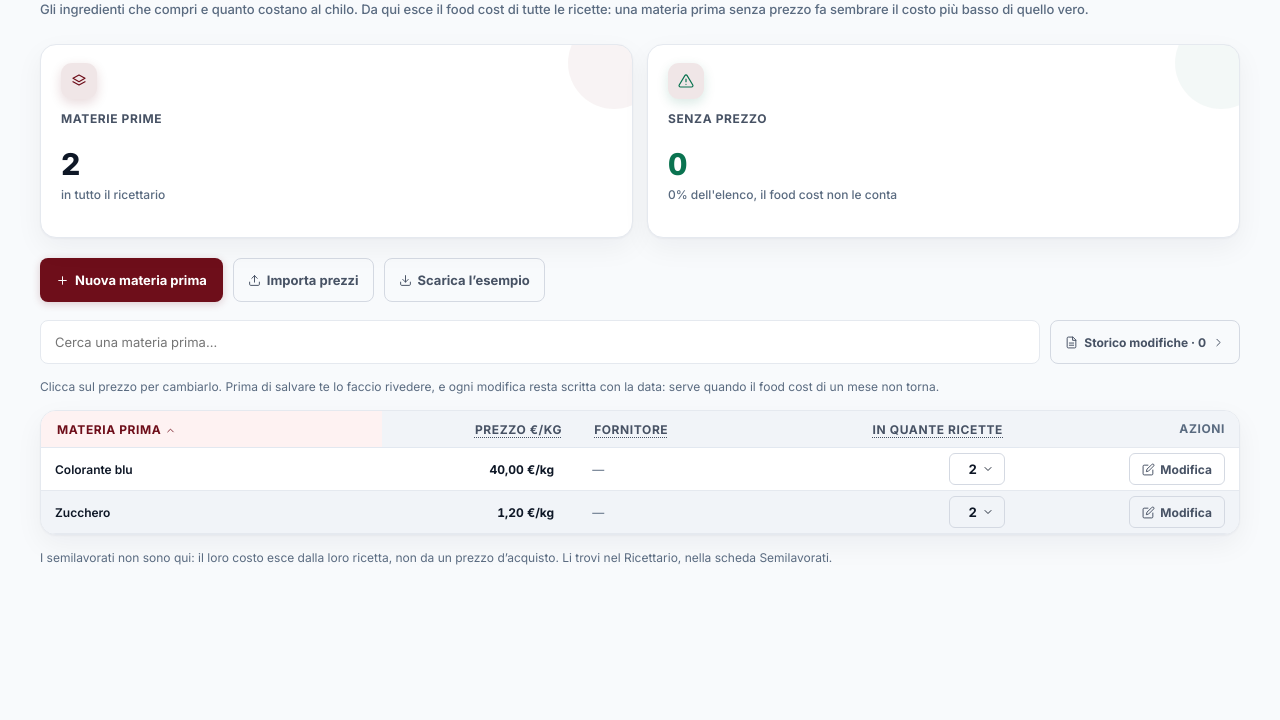
Test: non si cancella niente senza aver visto quante ricette la usano › la finestra dice il numero e i nomi delle ricette
The width and height of the screenshot is (1280, 720).
Click the button "Modifica" in the row of "Colorante blu" at (1177, 469), box left=1129, top=453, right=1225, bottom=485
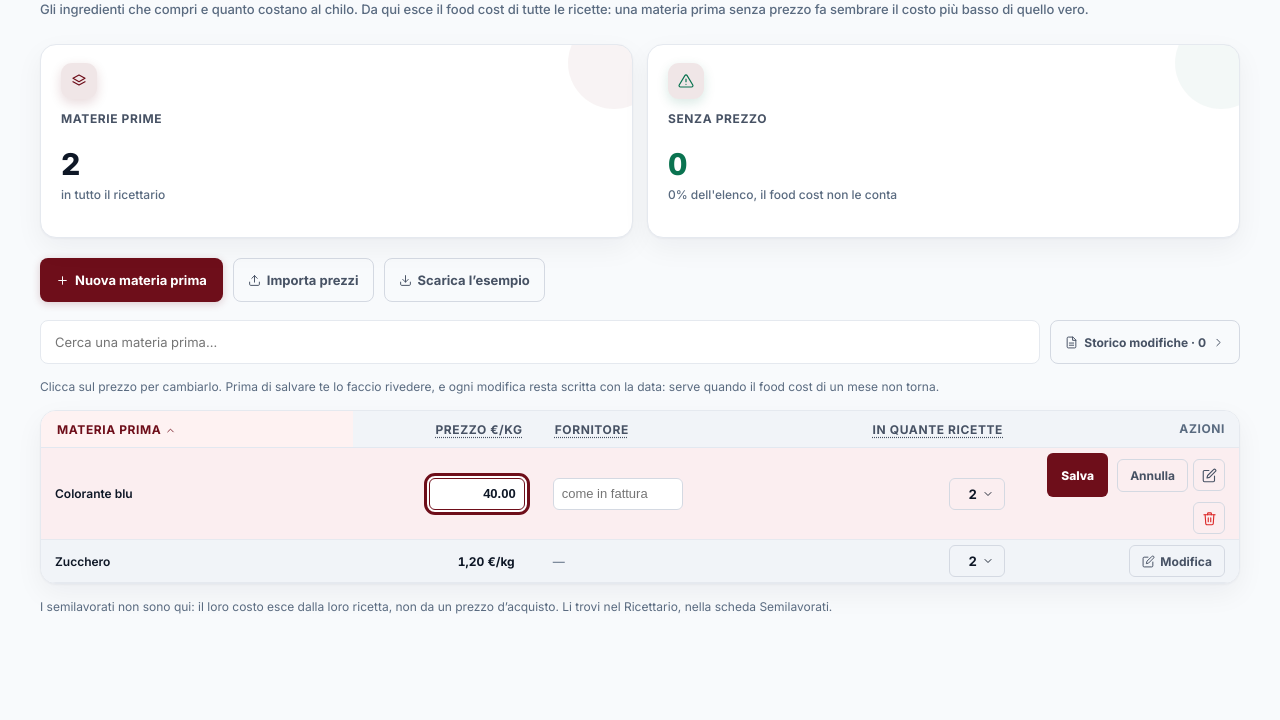
Now the button named "Elimina colorante blu" is shown
Click the button named "Elimina colorante blu" at (1209, 518), box left=1193, top=502, right=1225, bottom=534
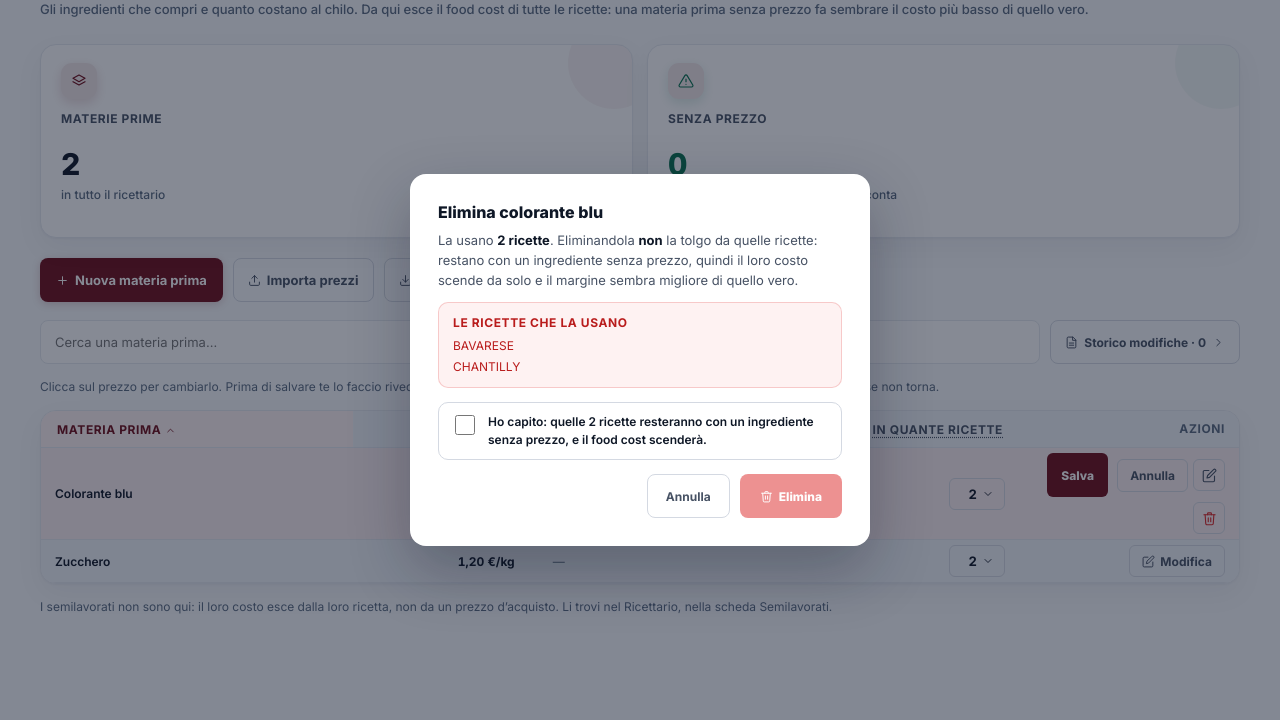
Now the dialog is shown
Now the dialog shows "2 ricette", box left=550, top=414, right=702, bottom=429
Now the dialog shows "BAVARESE", box left=453, top=338, right=514, bottom=353
